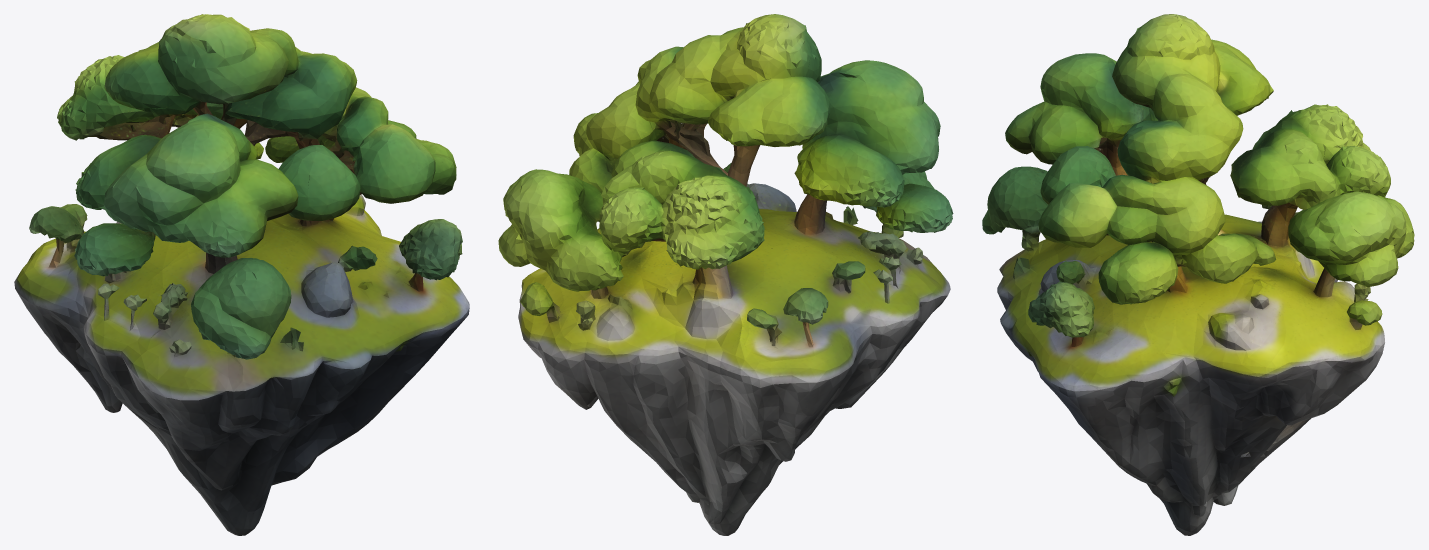
File: island.glb
3 views of the same model, side by side, from view 1: azimuth 30°, elevation 25°; view 2: azimuth 150°, elevation 25°; view 3: azimuth 270°, elevation 25° (orthographic). The views are drawn at different scales.
Visible parts, largest first — view 1: world; view 2: world; view 3: world.
Boxes of the visible parts, box(x1,y1,x2,y2) form: world: box(14, 14, 469, 535); world: box(498, 14, 953, 535); world: box(982, 14, 1414, 535).
Bounding box in the file's own units: 0.7422 × 0.9998 × 0.7897.
1 material, 1 textured.
